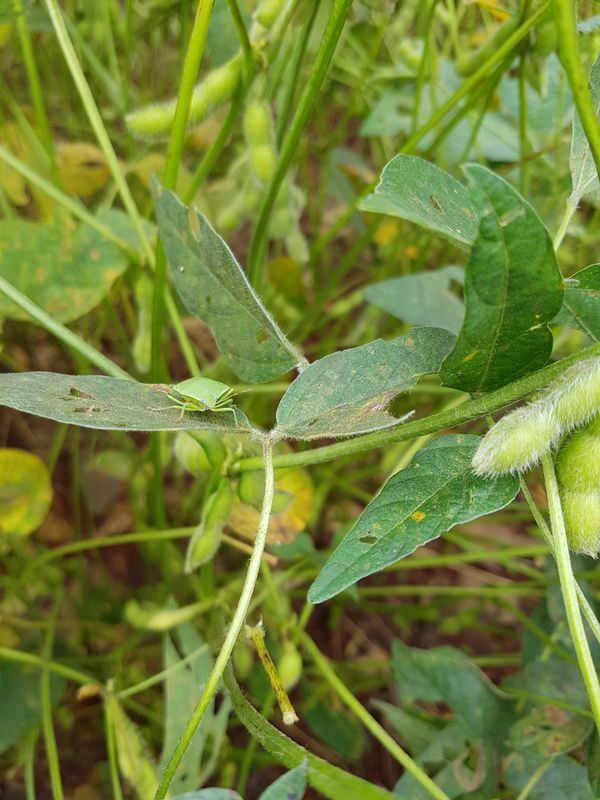Nezara_viridula_adulto: (150, 369, 255, 440)
